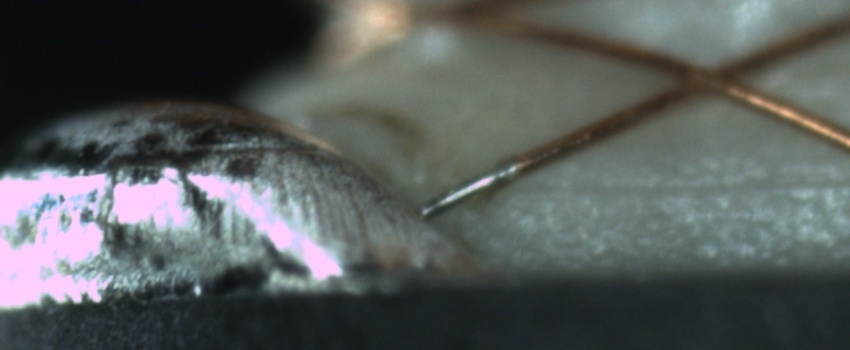CL: (662, 42, 763, 108)
DL: (519, 154, 850, 216)
TS: (416, 160, 517, 219)
